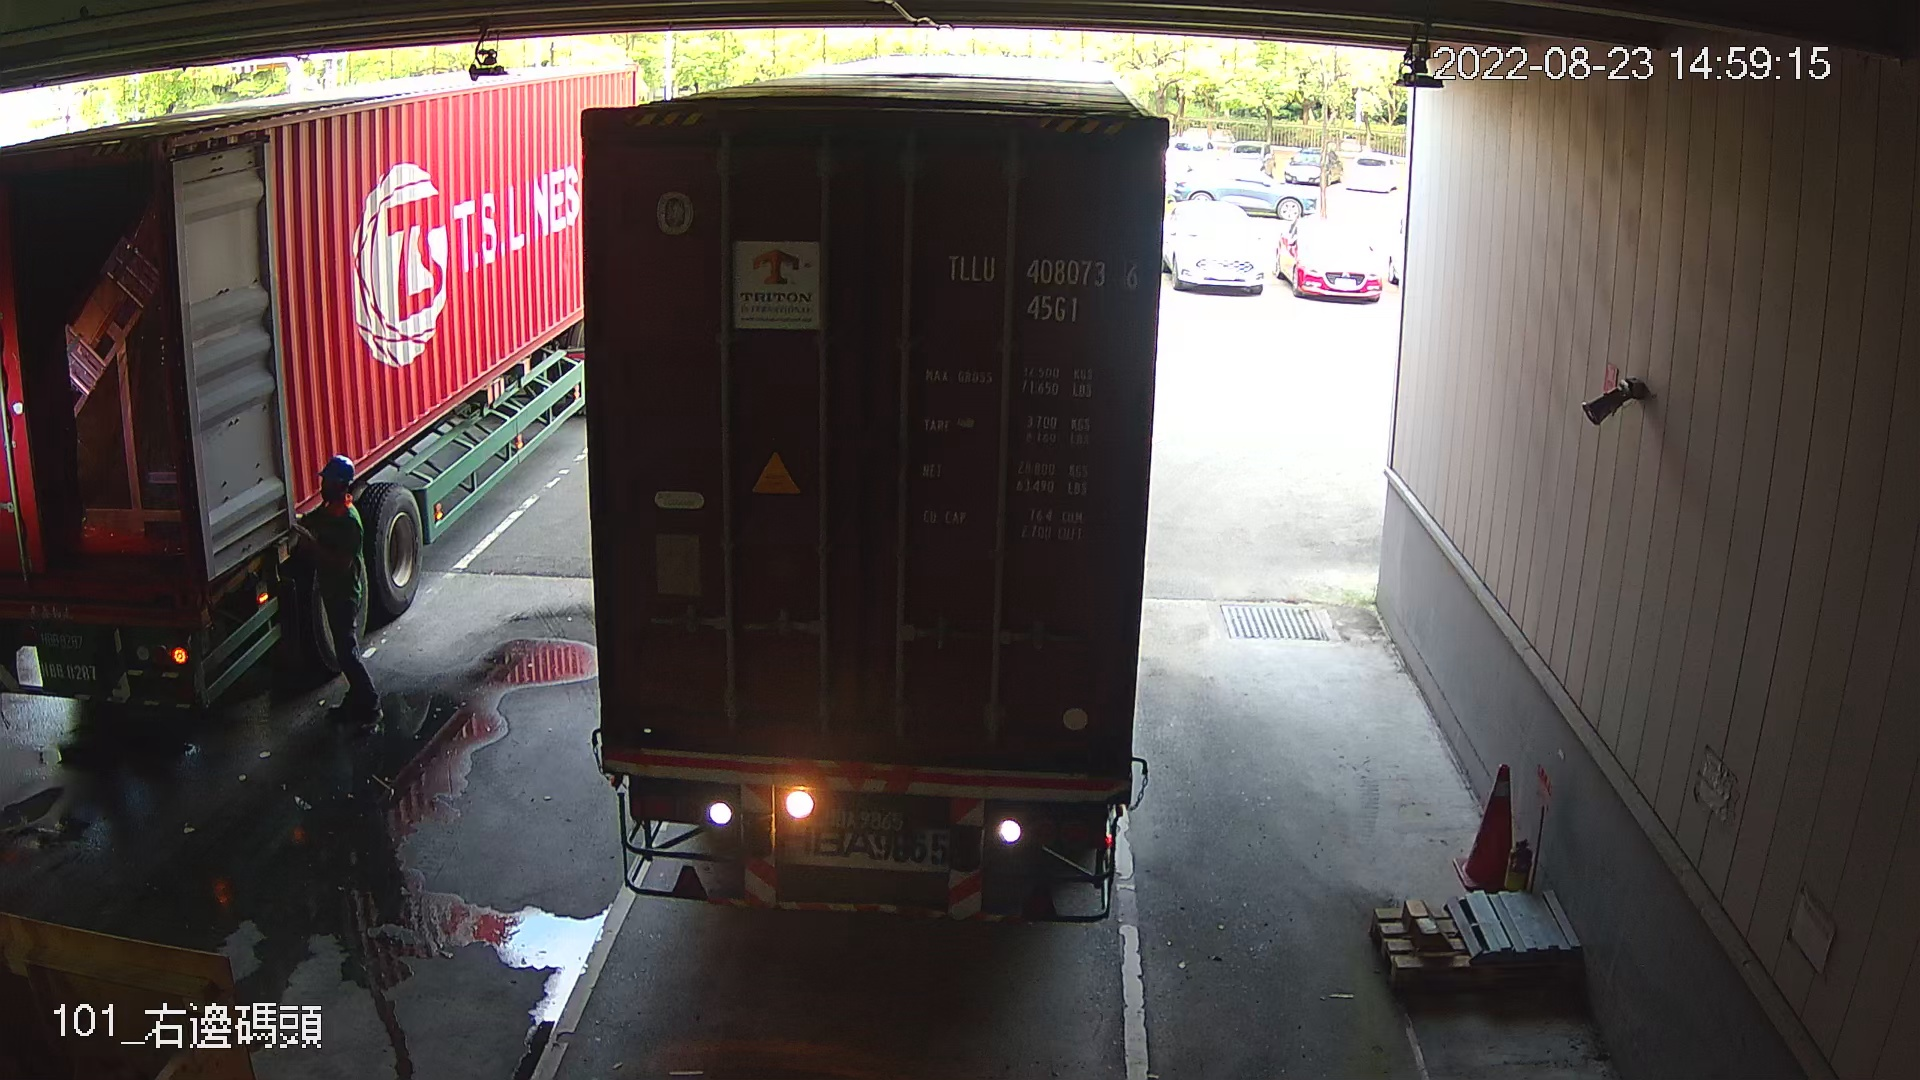container: (935, 237, 1151, 334)
